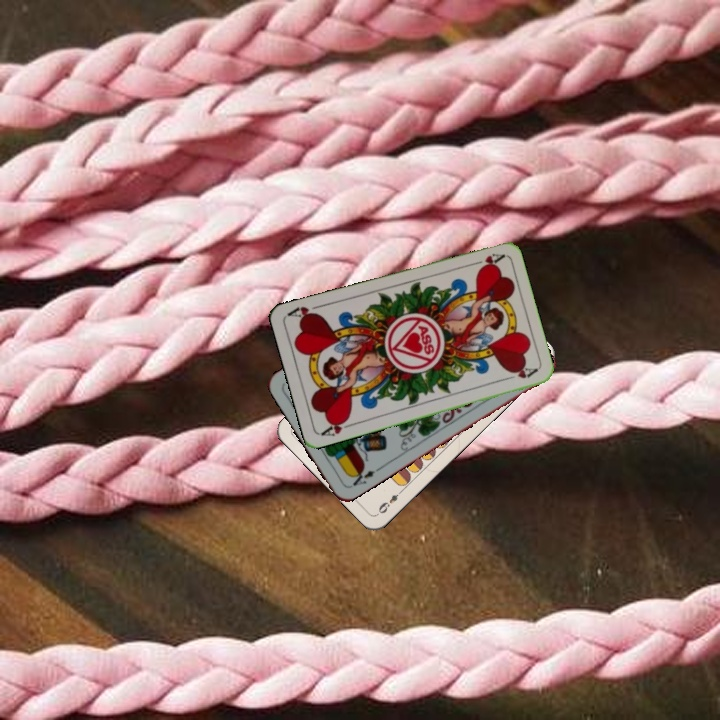E9: (374, 485, 406, 516)
EA: (346, 464, 378, 490)
HA: (318, 414, 357, 439), (466, 249, 506, 272)
